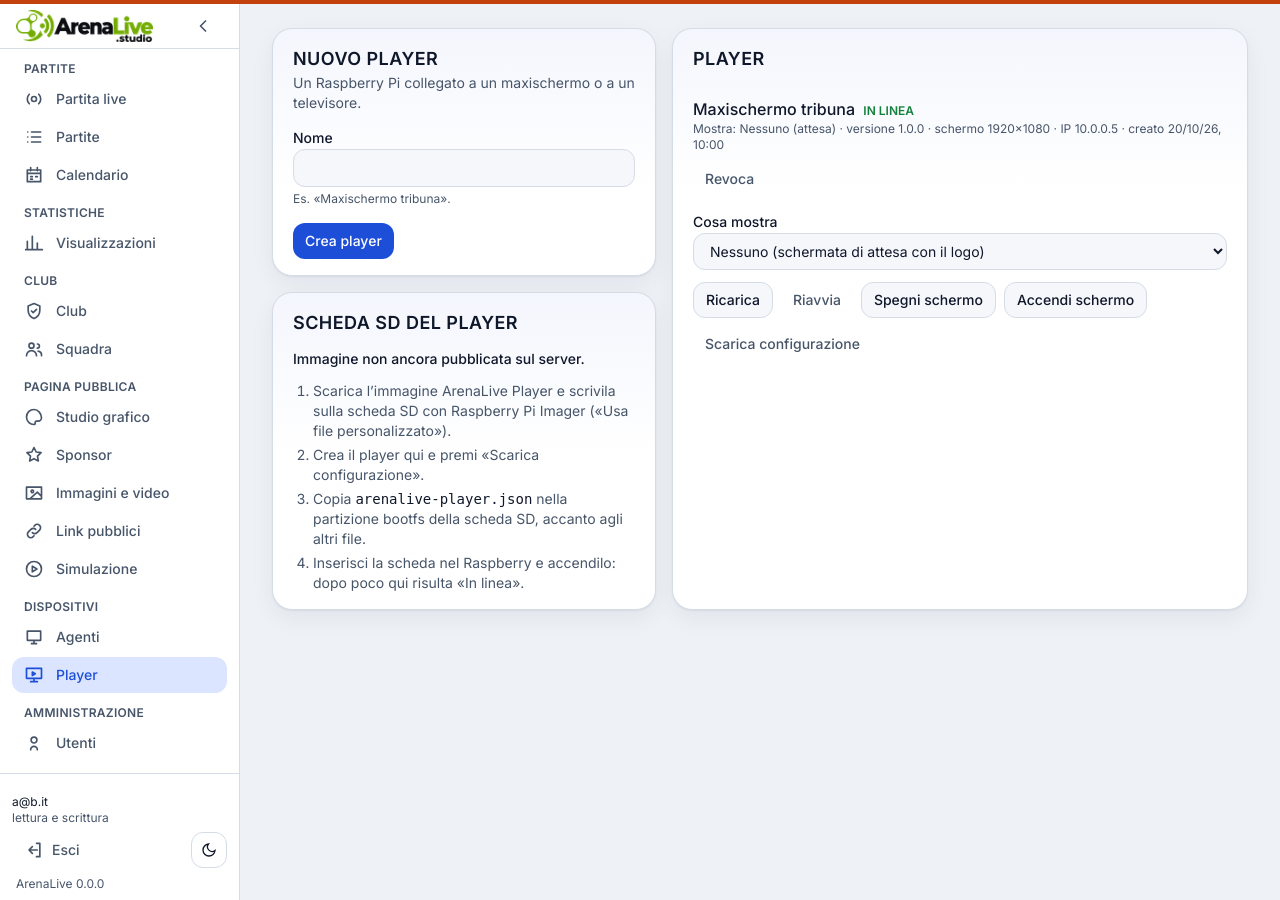
it: page «Player» › downloads the configuration with the Wi-Fi, refusing a short password
This screenshot has width=1280, height=900.
Click the button "Scarica configurazione" at (782, 344), box [693,326,872,362]
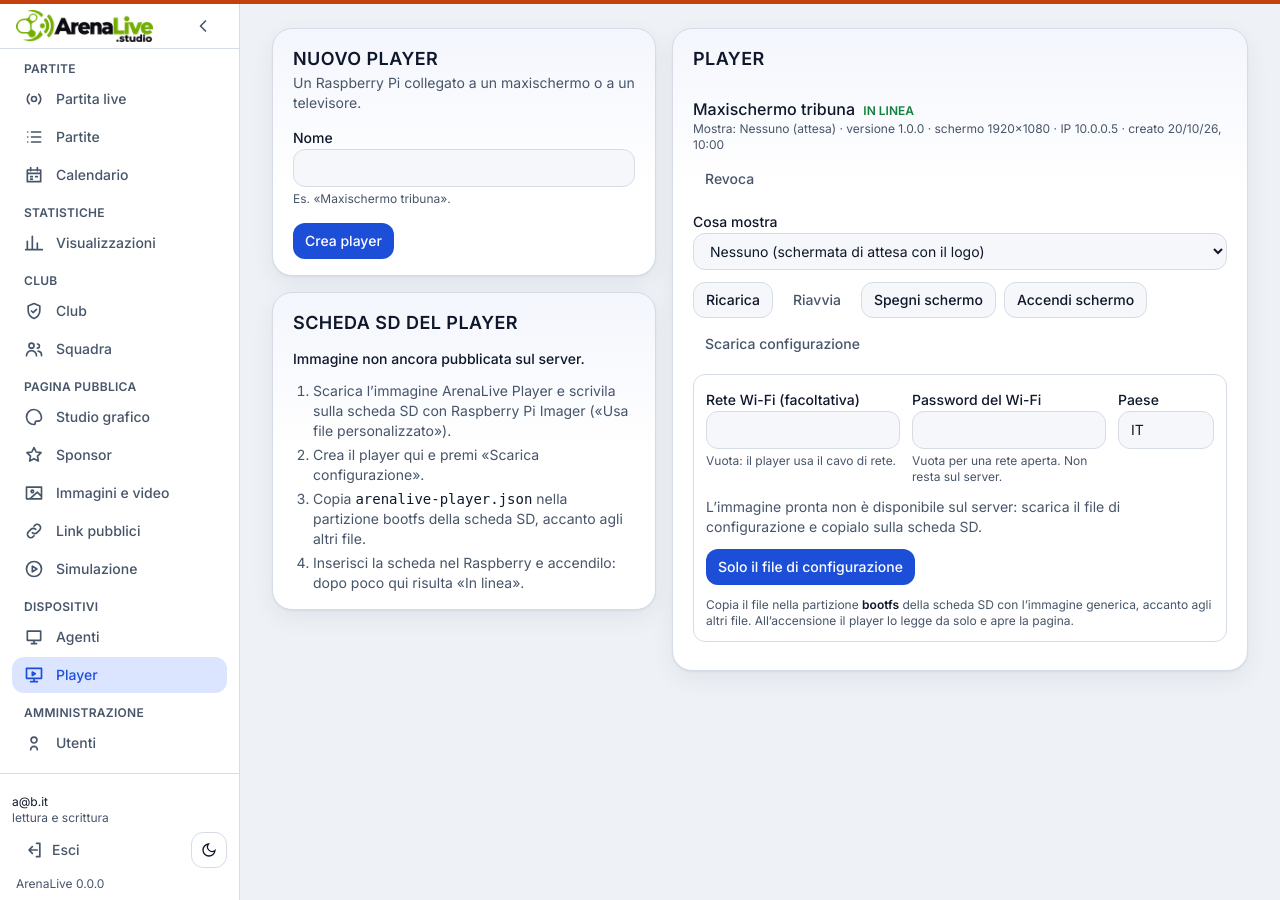
Type "Palestra" into the field labelled "Rete Wi-Fi" at (803, 430), box [706,411,900,449]
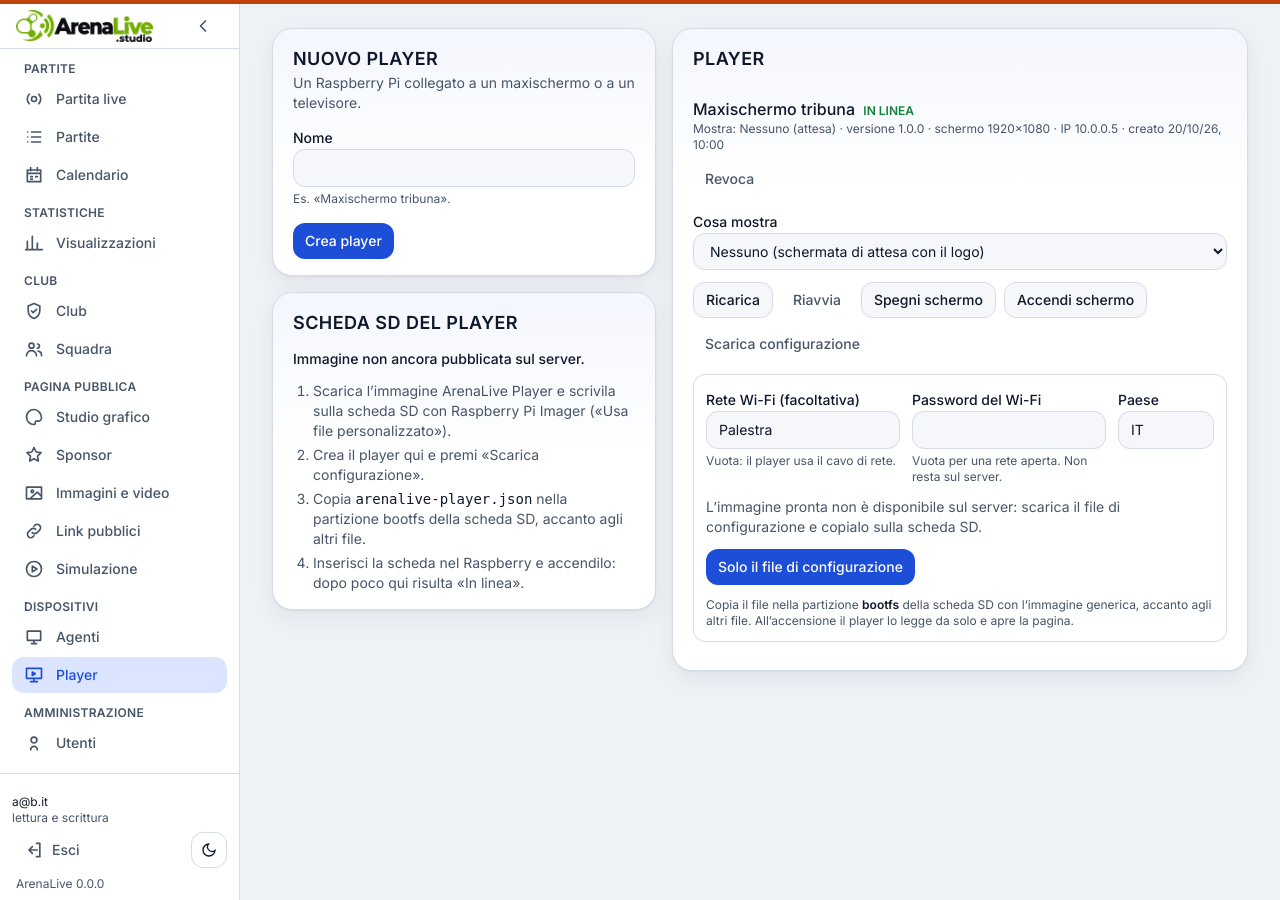
Type "corta" into the password field labelled "Password del Wi-Fi" at (1009, 430), box [912,411,1106,449]
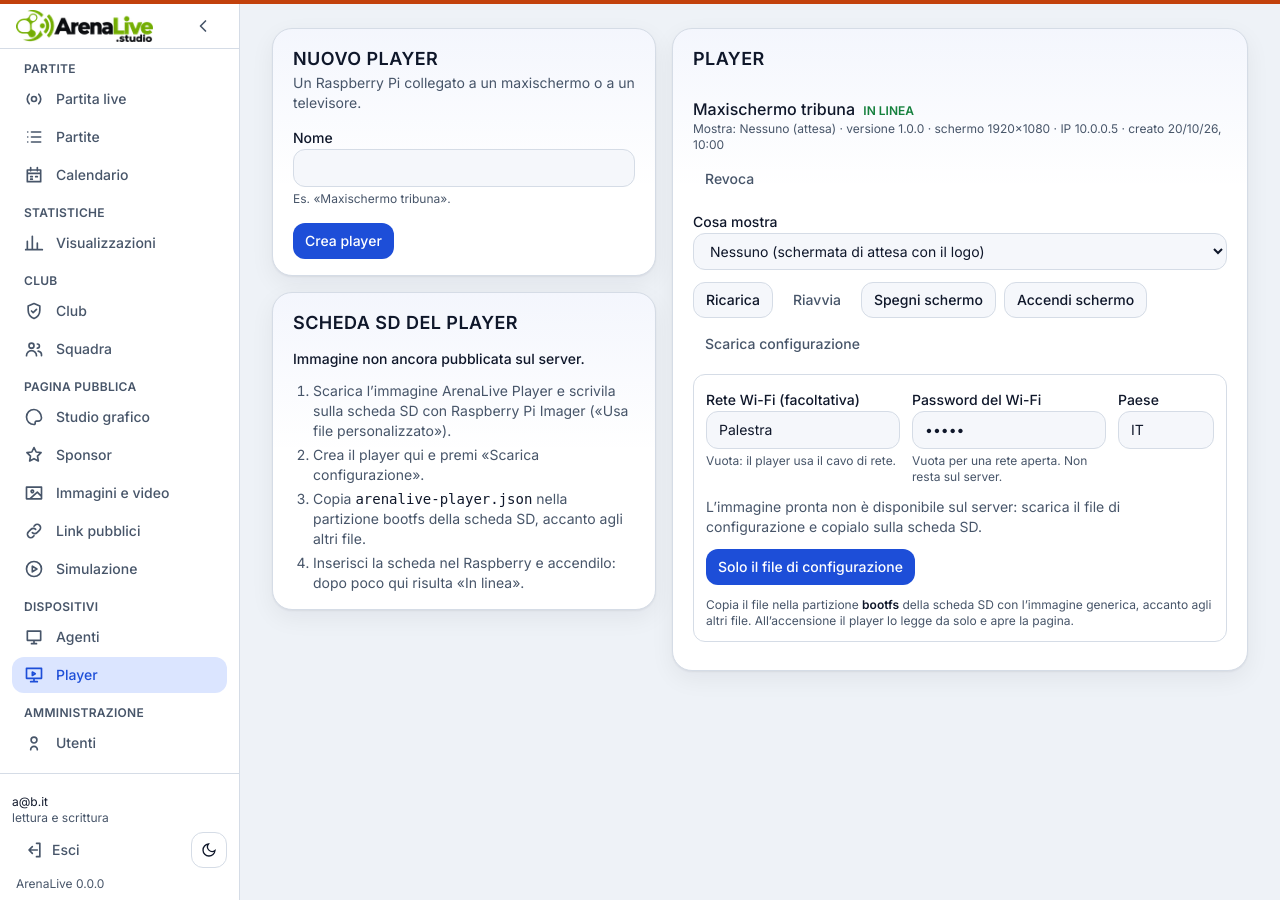
Check: the text "L’immagine pronta non è disponibile sul server: scarica il file di configurazione e copialo sulla scheda SD." is shown, box [706,498,1120,535]
Click the button "Solo il file di configurazione" at (810, 567), box [706,549,915,585]
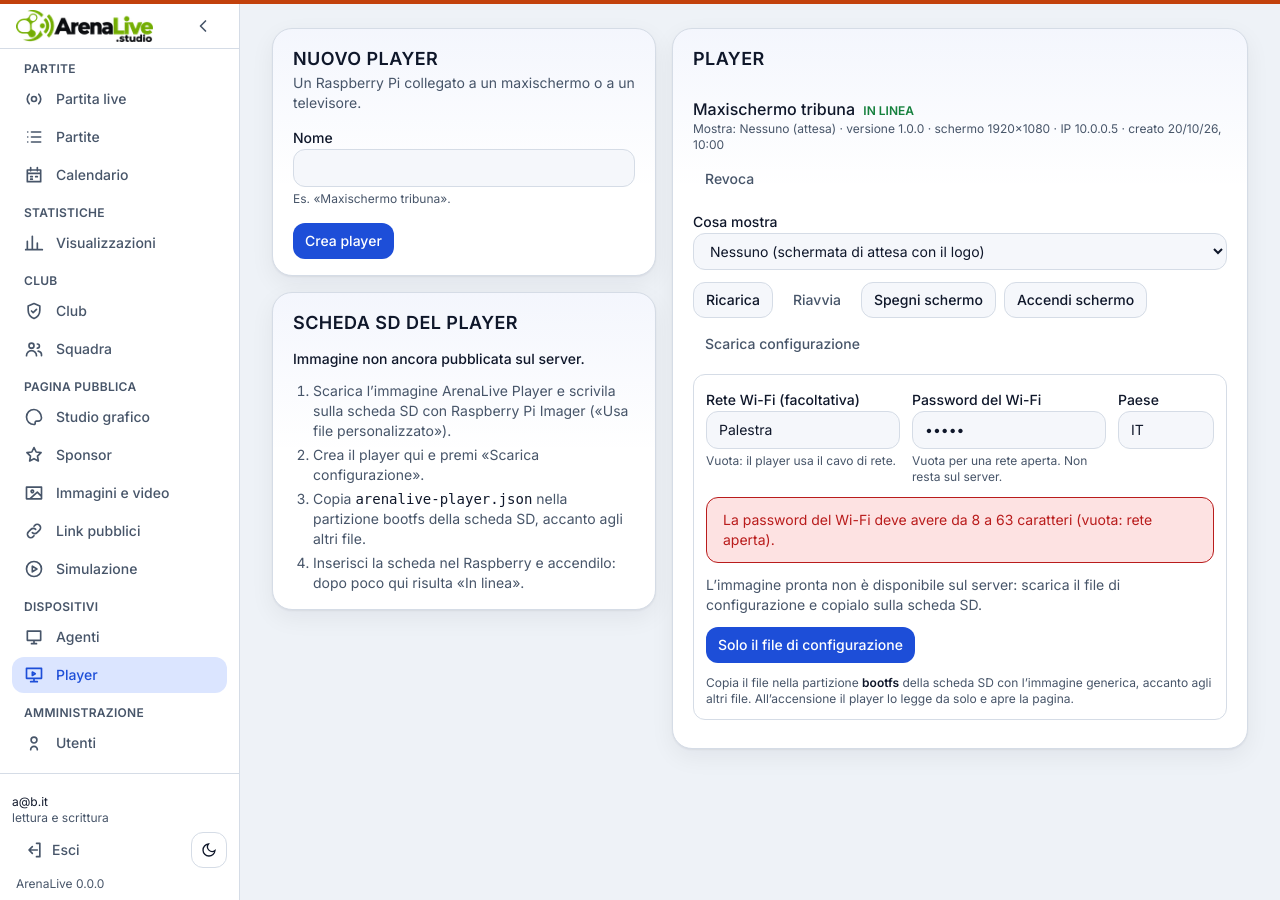
Check: the text "da 8 a 63 caratteri" is shown, box [723,511,1152,548]
Type "segreta-123" into the password field labelled "Password del Wi-Fi" at (1009, 430), box [912,411,1106,449]
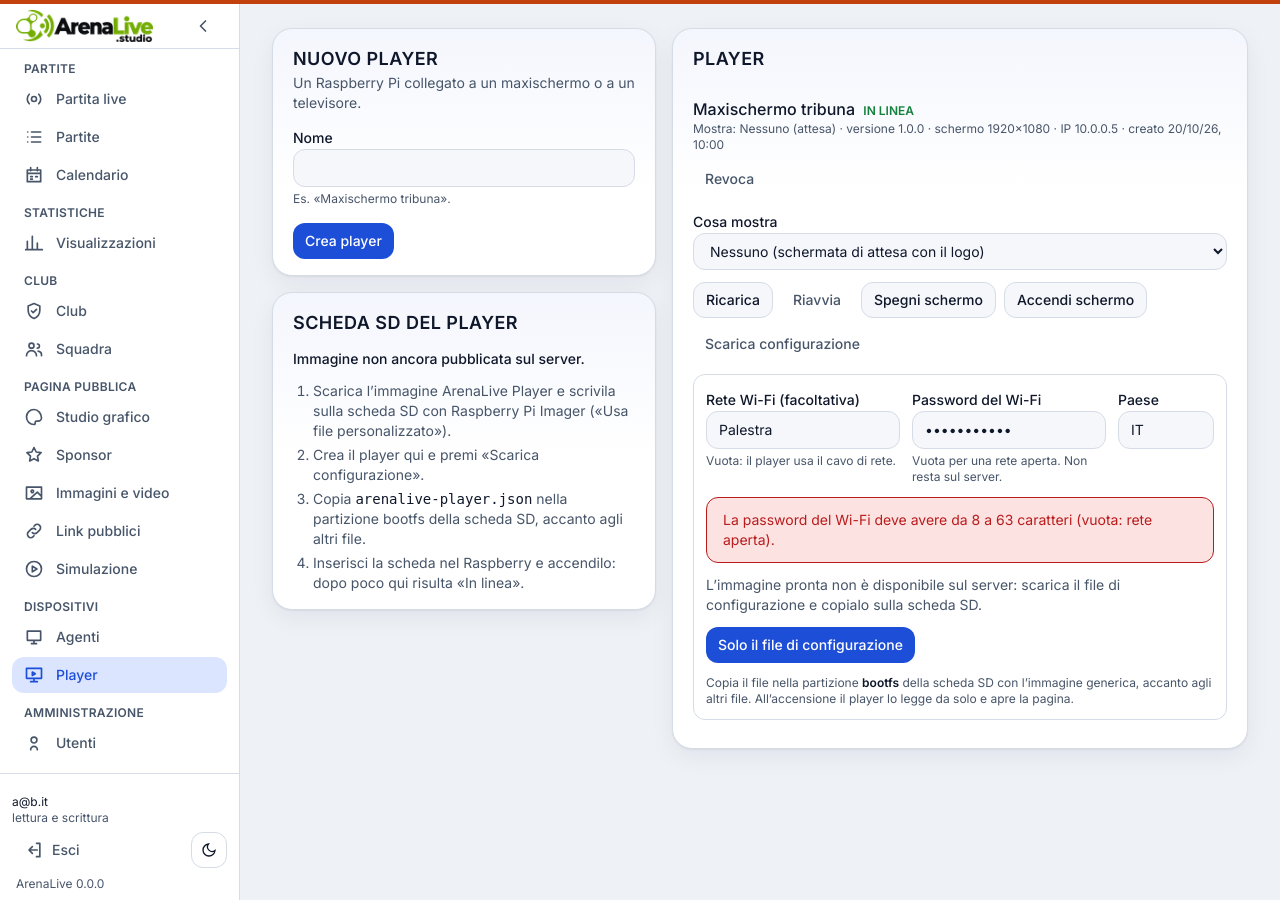
Click the button "Solo il file di configurazione" at (810, 645), box [706,627,915,663]
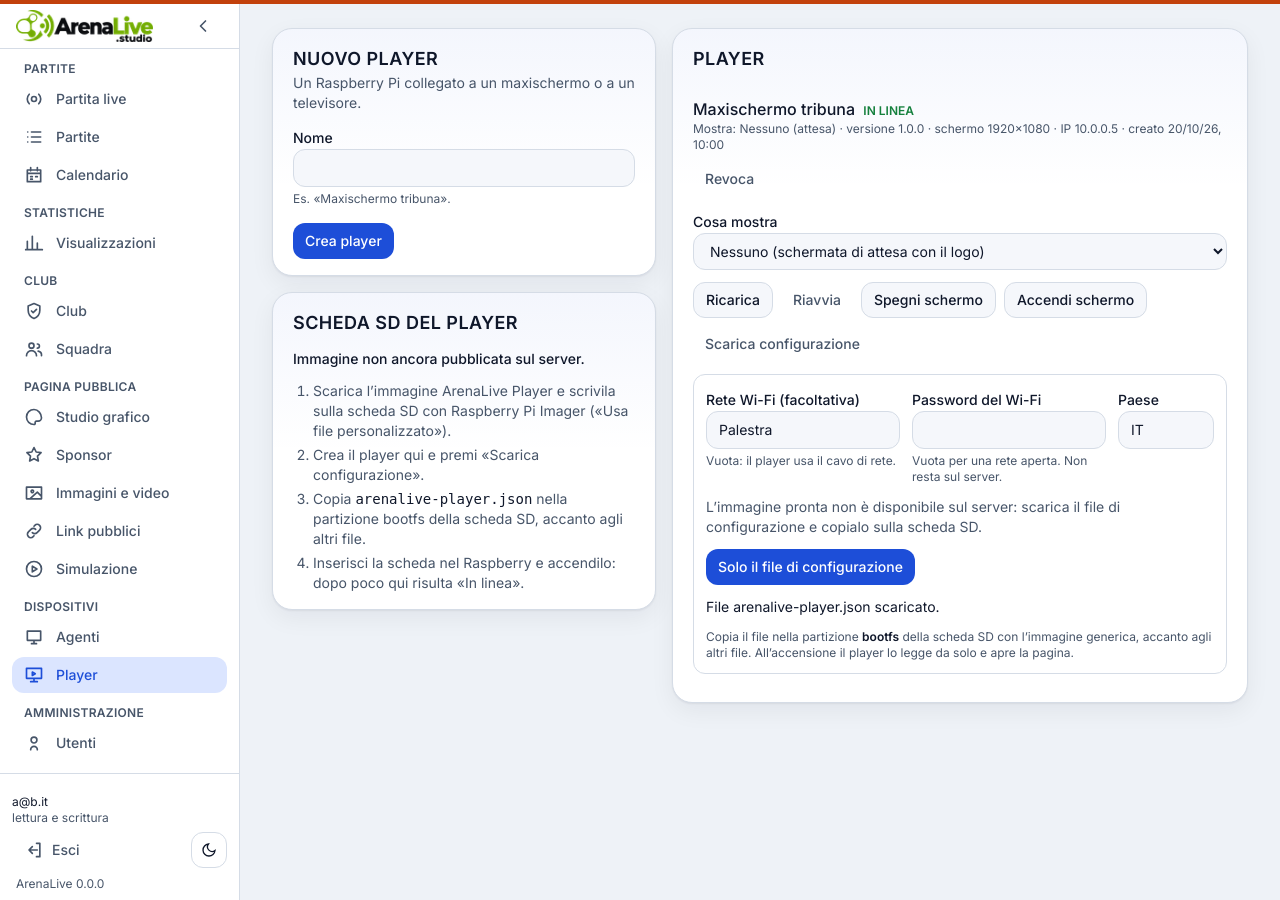
Check: the text "partizione" shows "bootfs", box [862,629,899,644]
Check: the text "File arenalive-player.json scaricato." is shown, box [706,598,940,615]
